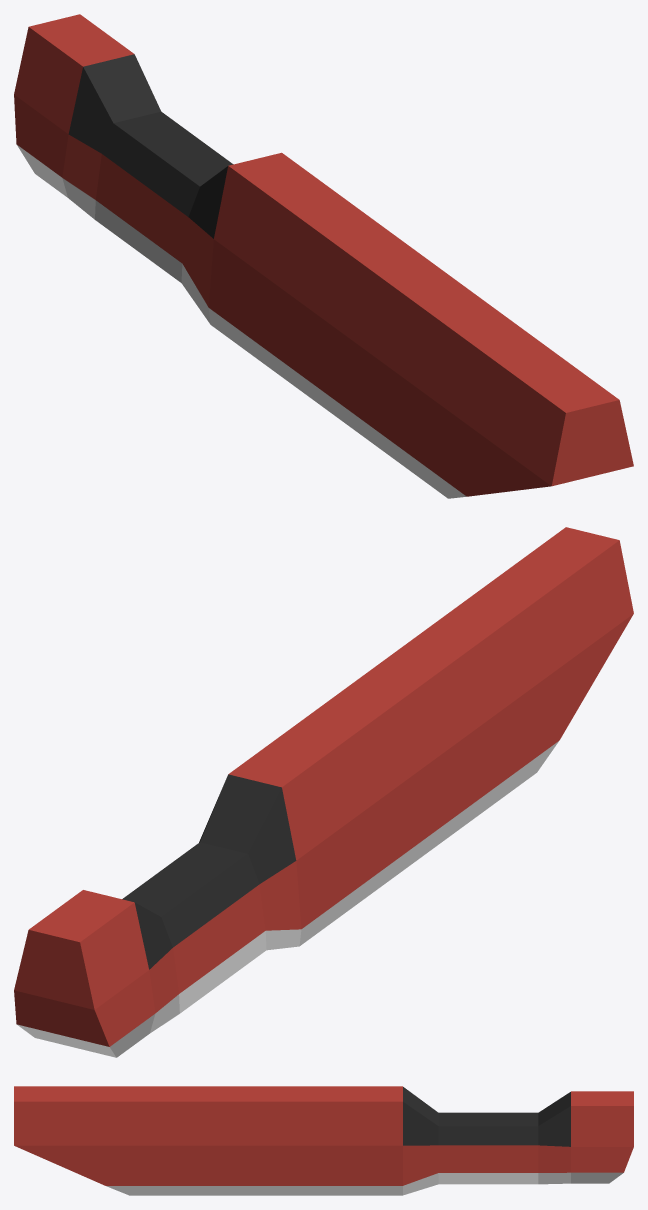
Rendered from hoverbike1.glb.
3 views of the same model, one above another, from view 1: azimuth 30°, elevation 25°; view 2: azimuth 150°, elevation 25°; view 3: azimuth 270°, elevation 25° (orthographic). The views are drawn at different scales.
Visible parts, largest first — view 1: Cube; view 2: Cube; view 3: Cube.
Boxes of the visible parts, x1=… form: Cube: x1=14, y1=14, x2=633, y2=498; Cube: x1=14, y1=527, x2=633, y2=1057; Cube: x1=14, y1=1086, x2=633, y2=1195.
Bounding box in the file's own units: 49.21 × 78.15 × 493.
